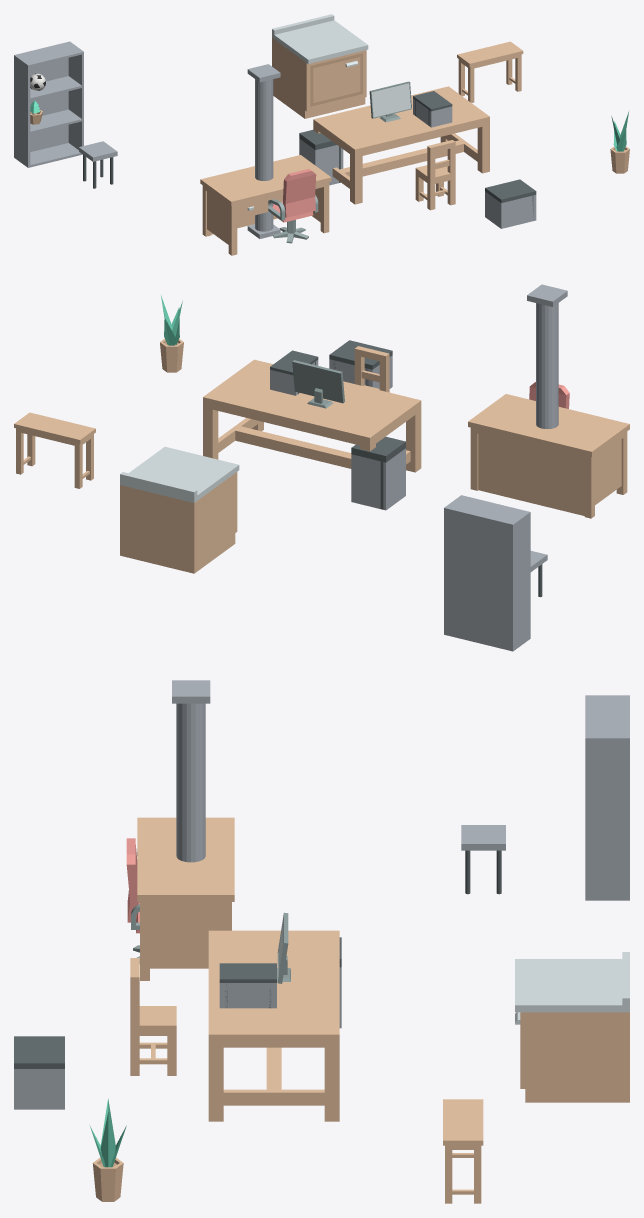
The picture shows the model from 3 angles, top to bottom: view 1: azimuth 30°, elevation 25°; view 2: azimuth 150°, elevation 25°; view 3: azimuth 270°, elevation 25°; orthographic projection. The views are drawn at different scales.
Parts seen in each view (by area): view 1: table_green__table(Clone), cabinet_blue__kitchenCabinet(Clone), desk_blue__desk(Clone), column_cyan__column_cyan shaft, cabinet_blue__door, chair_cyan__chair(Clone), shelf_orange__shelf_orange back, sidetable_brown__sideTable(Clone), deskchair_black__chair, shelf_orange__shelf_orange side_l, crate_red__crate_red shell, monitor_gray__computerScreen(Clone) (+15 smaller); view 2: desk_blue__desk(Clone), table_green__table(Clone), cabinet_blue__kitchenCabinet(Clone), shelf_orange__shelf_orange back, sidetable_brown__sideTable(Clone), column_cyan__column_cyan shaft, shelf_orange__shelf_orange side_l, bin_gray__bin_gray shell, monitor_gray__computerScreen(Clone), chair_cyan__chair(Clone), shelf_orange__shelf_orange board3, bin_gray__bin_gray lid (+7 smaller); view 3: table_green__table(Clone), cabinet_blue__kitchenCabinet(Clone), desk_blue__desk(Clone), shelf_orange__shelf_orange side_r, column_cyan__column_cyan shaft, sidetable_brown__sideTable(Clone), chair_cyan__chair(Clone), crate_red__crate_red shell, shelf_orange__shelf_orange board3, crate_red__crate_red lid, case_brown__case_brown shell, stool_purple__stool_purple seat (+5 smaller).
Part boxes in pixels (<box>): table_green__table(Clone): <box>313,86,489,204</box>; cabinet_blue__kitchenCabinet(Clone): <box>272,14,368,118</box>; desk_blue__desk(Clone): <box>200,155,331,255</box>; column_cyan__column_cyan shaft: <box>255,79,273,231</box>; cabinet_blue__door: <box>310,53,362,106</box>; chair_cyan__chair(Clone): <box>415,140,455,210</box>; shelf_orange__shelf_orange back: <box>16,42,68,151</box>; sidetable_brown__sideTable(Clone): <box>457,41,523,102</box>; deskchair_black__chair: <box>268,169,318,222</box>; shelf_orange__shelf_orange side_l: <box>14,54,30,167</box>; crate_red__crate_red shell: <box>485,191,536,228</box>; monitor_gray__computerScreen(Clone): <box>369,81,411,122</box>; desk_blue__desk(Clone): <box>468,394,629,518</box>; table_green__table(Clone): <box>203,359,421,472</box>; cabinet_blue__kitchenCabinet(Clone): <box>120,446,239,573</box>; shelf_orange__shelf_orange back: <box>446,508,510,650</box>; sidetable_brown__sideTable(Clone): <box>14,412,95,488</box>; column_cyan__column_cyan shaft: <box>536,303,558,428</box>; shelf_orange__shelf_orange side_l: <box>510,511,530,651</box>; bin_gray__bin_gray shell: <box>351,448,405,510</box>; monitor_gray__computerScreen(Clone): <box>292,360,344,408</box>; chair_cyan__chair(Clone): <box>354,346,389,392</box>; shelf_orange__shelf_orange board3: <box>448,496,527,523</box>; bin_gray__bin_gray lid: <box>351,436,405,462</box>; table_green__table(Clone): <box>208,930,339,1121</box>; cabinet_blue__kitchenCabinet(Clone): <box>515,952,629,1102</box>; desk_blue__desk(Clone): <box>137,817,234,980</box>; shelf_orange__shelf_orange side_r: <box>585,737,629,900</box>; column_cyan__column_cyan shaft: <box>176,703,205,862</box>; sidetable_brown__sideTable(Clone): <box>443,1099,483,1203</box>; chair_cyan__chair(Clone): <box>130,958,176,1075</box>; crate_red__crate_red shell: <box>14,1069,64,1109</box>; shelf_orange__shelf_orange board3: <box>585,697,627,736</box>; crate_red__crate_red lid: <box>14,1036,64,1068</box>; case_brown__case_brown shell: <box>219,983,276,1008</box>; stool_purple__stool_purple seat: <box>461,825,505,850</box>.
Size of the model in its own units: 6.43 by 2.2 by 4.82.
